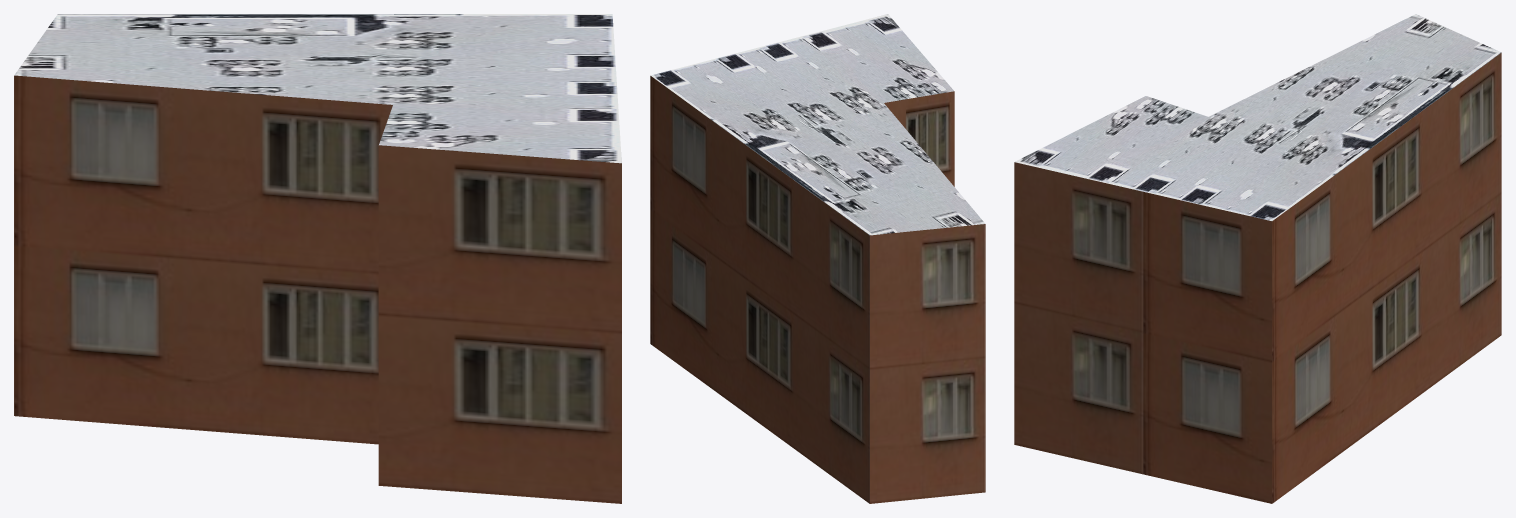
Rendered from ResTex__3636.fbx.
The picture shows the model from 3 angles, left to right: view 1: azimuth 30°, elevation 25°; view 2: azimuth 150°, elevation 25°; view 3: azimuth 270°, elevation 25°; orthographic projection. The views are drawn at different scales.
Visible parts, largest first — view 1: CityEngineMaterial_20_m, CityEngineMaterial_4_m; view 2: CityEngineMaterial_20_m, CityEngineMaterial_4_m; view 3: CityEngineMaterial_20_m, CityEngineMaterial_4_m.
Part boxes in pixels (x1,y1,x2,y2): CityEngineMaterial_20_m: [14, 75, 621, 503]; CityEngineMaterial_4_m: [14, 14, 621, 163]; CityEngineMaterial_20_m: [650, 76, 985, 503]; CityEngineMaterial_4_m: [650, 14, 985, 235]; CityEngineMaterial_20_m: [1014, 53, 1501, 503]; CityEngineMaterial_4_m: [1014, 14, 1501, 220].
Size of the model in its own units: 9.44 by 6 by 9.38.
Materials: 2 (2 with a texture image).
